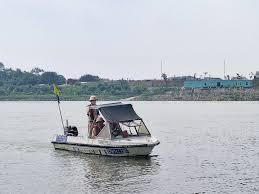Ship: (50, 90, 162, 159)
